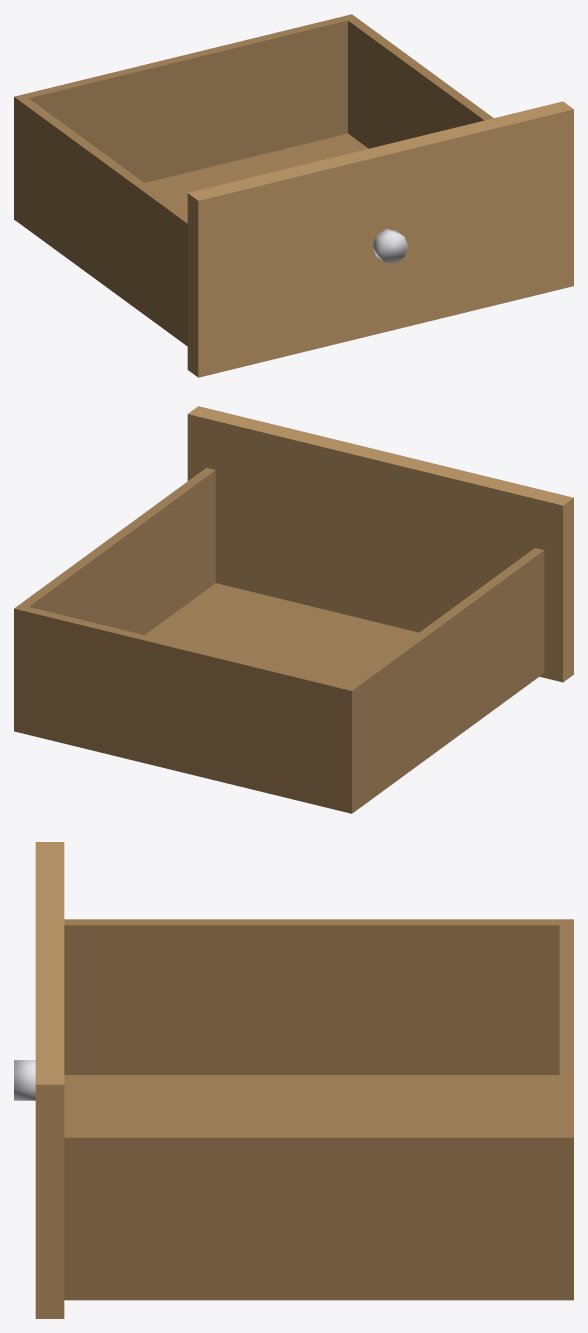
File: nightstand_drawer.glb
3 renders of one model, top to bottom at view 1: azimuth 30°, elevation 25°; view 2: azimuth 150°, elevation 25°; view 3: azimuth 270°, elevation 25°, orthographic. The views are drawn at different scales.
Visible parts, largest first — view 1: nightstand_drawer; view 2: nightstand_drawer; view 3: nightstand_drawer.
Part boxes in pixels (<box>): nightstand_drawer: <box>14,14,573,377</box>; nightstand_drawer: <box>14,406,573,813</box>; nightstand_drawer: <box>14,842,573,1318</box>.
Size of the model in its own units: 0.4 by 0.18 by 0.39.
